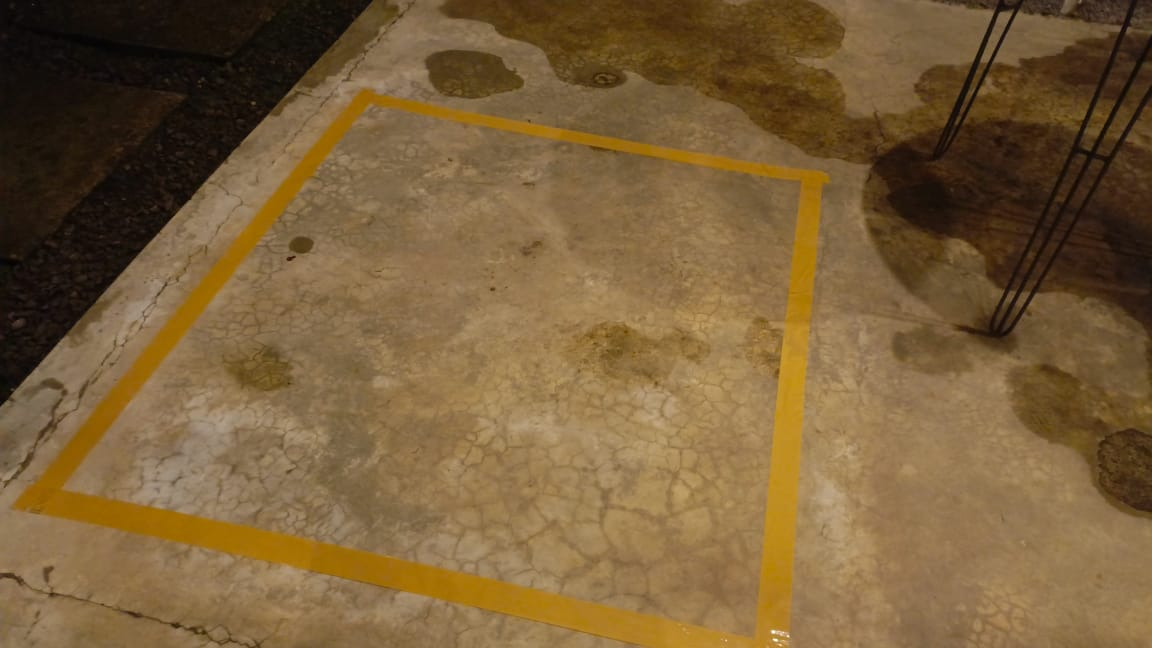floor marking: (14, 91, 827, 647)
